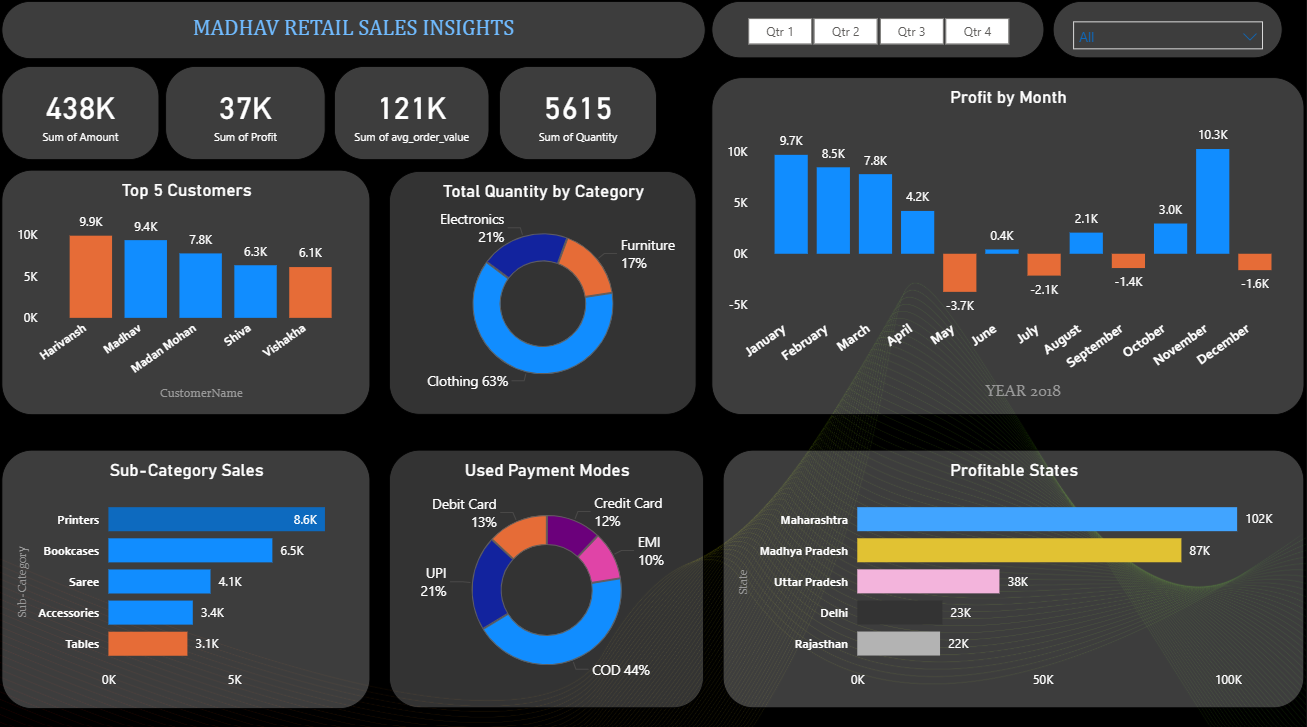

Layout of this report page (visuals, bound fields, positions):
{"tool":"powerbi","page":{"name":"Page 1","canvas":[1280,720],"ordinal":0},"visuals":[{"type":"textbox","box":[2.4,4.8,688.9,56.7],"z":0},{"type":"columnChart","title":"Profit by Month","fields":{"Category":["Orders.Order Date.Variation.Date Hierarchy.Month"],"Y":["Details.Profit"]},"box":[697,79.5,579.6,330.2],"z":1000},{"type":"barChart","title":"Sub-Category Sales","fields":{"Category":["Details.Sub-Category"],"Y":["Details.Profit"]},"box":[2.4,444,360.7,253.4],"z":2000},{"type":"donutChart","title":"Total Quantity by Category","fields":{"Category":["Details.Category"],"Y":["Details.Quantity"]},"box":[381.5,171.2,300.8,238.5],"z":3000},{"type":"donutChart","title":"Used Payment Modes","fields":{"Y":["Details.Quantity"],"Category":["Details.PaymentMode"]},"box":[381.5,443.9,308.2,253.1],"z":4000},{"type":"card","fields":{"Values":["Details.Amount"]},"box":[2.4,68.5,154.1,91.7],"z":5000},{"type":"card","fields":{"Values":["Details.Quantity"]},"box":[489.1,68.5,154.1,91.7],"z":6000},{"type":"card","fields":{"Values":["Details.Profit"]},"box":[162.6,68.5,156.5,91.7],"z":7000},{"type":"card","fields":{"Values":["Details.avg_order_value"]},"box":[327.7,68.5,151.6,91.7],"z":8000},{"type":"barChart","title":"Profitable States","fields":{"Category":["Orders.State"],"Y":["Details.Amount"]},"box":[708,443.9,568.6,253.1],"z":9000},{"type":"columnChart","title":"Top 5 Customers","fields":{"Category":["Orders.CustomerName"],"Y":["Details.Amount"]},"box":[2.4,170.1,360.7,240.1],"z":10000},{"type":"slicer","fields":{"Values":["Orders.Order Date.Variation.Date Hierarchy.Quarter"]},"box":[697,4.9,325.3,56.3],"z":11000},{"type":"slicer","fields":{"Values":["Orders.State"]},"box":[1030.8,4.9,225,56.3],"z":12000}]}

Visuals, with their boxes in screenshot pixels (x1, y1, x2, y2), scaled from the page's 1280x720 canvas onto the 1307x727 screenshot:
textbox: 2,5,706,62
"Profit by Month" columnChart: 712,80,1304,414
"Sub-Category Sales" barChart: 2,448,371,704
"Total Quantity by Category" donutChart: 390,173,697,414
"Used Payment Modes" donutChart: 390,448,704,704
card - Details.Amount: 2,69,160,162
card - Details.Quantity: 499,69,657,162
card - Details.Profit: 166,69,326,162
card - Details.avg_order_value: 335,69,489,162
"Profitable States" barChart: 723,448,1304,704
"Top 5 Customers" columnChart: 2,172,371,414
slicer - Orders.Order Date.Variation.Date Hierarchy.Quarter: 712,5,1044,62
slicer - Orders.State: 1053,5,1282,62
